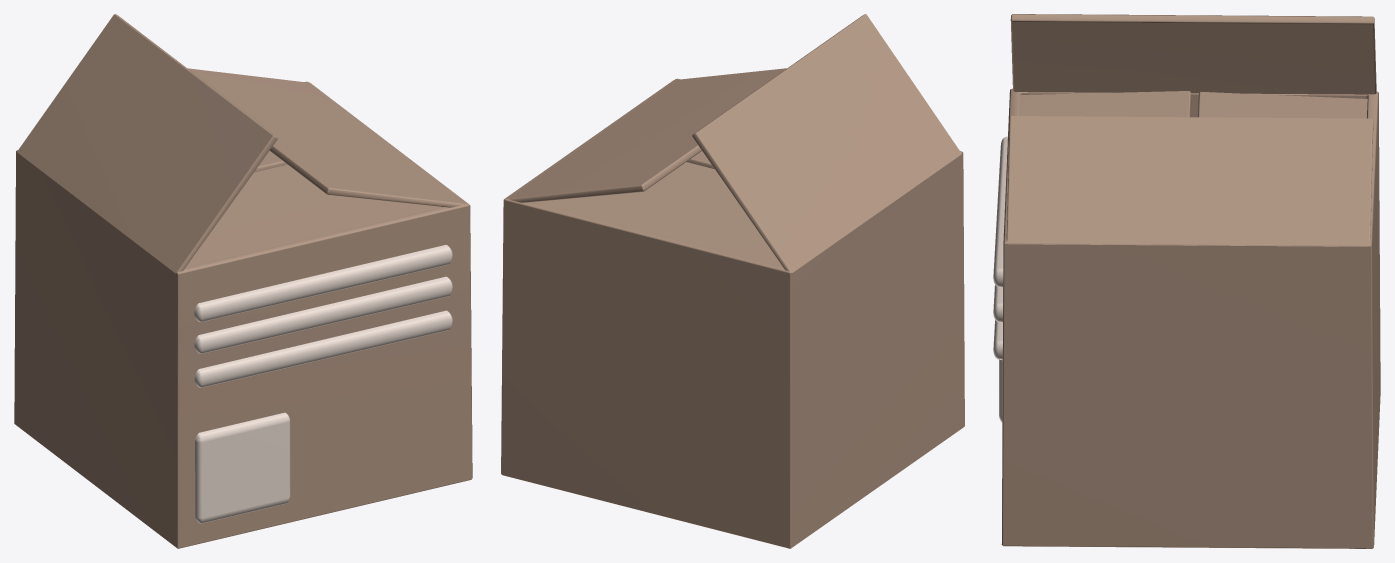
The picture shows the model from 3 angles, left to right: view 1: azimuth 30°, elevation 25°; view 2: azimuth 150°, elevation 25°; view 3: azimuth 270°, elevation 25°; orthographic projection. The views are drawn at different scales.
Parts seen in each view (by area): view 1: Box_7; view 2: Box_7; view 3: Box_7.
Boxes of the visible parts, x1=… form: Box_7: x1=14, y1=14, x2=472, y2=548; Box_7: x1=501, y1=14, x2=964, y2=548; Box_7: x1=993, y1=14, x2=1380, y2=548.
Bounding box in the file's own units: 0.4059 × 0.5067 × 0.415.
1 material, 1 textured.
